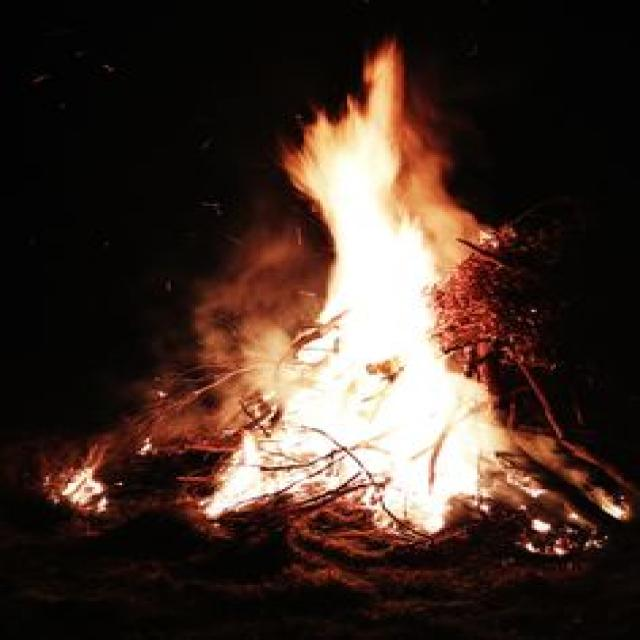Fire: (190, 69, 559, 578)
